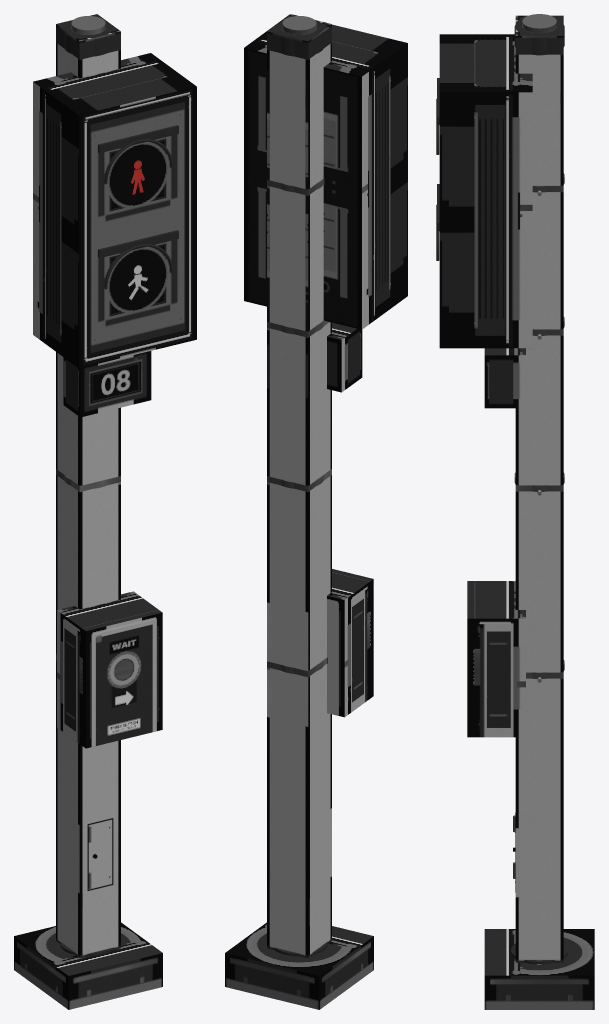
Rendered from crossingpole-NOS1bdru.glb.
3 views of the same model, side by side, from view 1: azimuth 30°, elevation 25°; view 2: azimuth 150°, elevation 25°; view 3: azimuth 270°, elevation 25° (orthographic).
Parts seen in each view (by area): view 1: farBaked, body; view 2: farBaked, body; view 3: farBaked, body.
Boxes of the visible parts, box(x1,y1,x2,y2) form: farBaked: box(14, 14, 196, 1009); body: box(60, 16, 178, 956); farBaked: box(225, 14, 407, 1009); body: box(274, 16, 327, 956); farBaked: box(439, 15, 594, 1009); body: box(436, 14, 568, 964).
Size of the model in its own units: 0.4 by 3.1 by 0.4602.
Materials: 3 (3 with a texture image).
